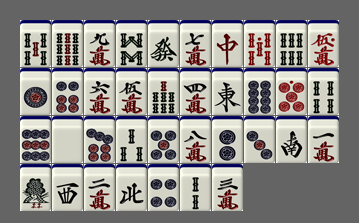0m: (308, 20, 339, 67)
0p: (276, 68, 307, 115)
0s: (244, 20, 275, 67)
1m: (308, 116, 339, 163)
1p: (20, 68, 51, 115)
1s: (20, 164, 51, 211)
1z: (212, 68, 243, 115)
2m: (84, 164, 115, 211)
2p: (212, 116, 243, 163)
2s: (180, 164, 211, 211)
2z: (276, 116, 307, 163)
3m: (212, 164, 243, 211)
3p: (244, 116, 275, 163)
3s: (116, 116, 147, 163)
3z: (52, 164, 83, 211)
4m: (180, 68, 211, 115)
4p: (148, 164, 179, 211)
4s: (308, 68, 339, 115)
4z: (116, 164, 147, 211)
5m: (116, 68, 147, 115)
5p: (148, 116, 179, 163)
5s: (20, 20, 51, 67)
5z: (52, 116, 83, 163)
6m: (84, 68, 115, 115)
6p: (52, 68, 83, 115)
6s: (276, 20, 307, 67)
6z: (148, 20, 179, 67)
7m: (180, 20, 211, 67)
7p: (84, 116, 115, 163)
7s: (148, 68, 179, 115)
7z: (212, 20, 243, 67)
8m: (180, 116, 211, 163)
8p: (244, 68, 275, 115)
8s: (116, 20, 147, 67)
9m: (84, 20, 115, 67)
9p: (20, 116, 51, 163)
9s: (52, 20, 83, 67)
